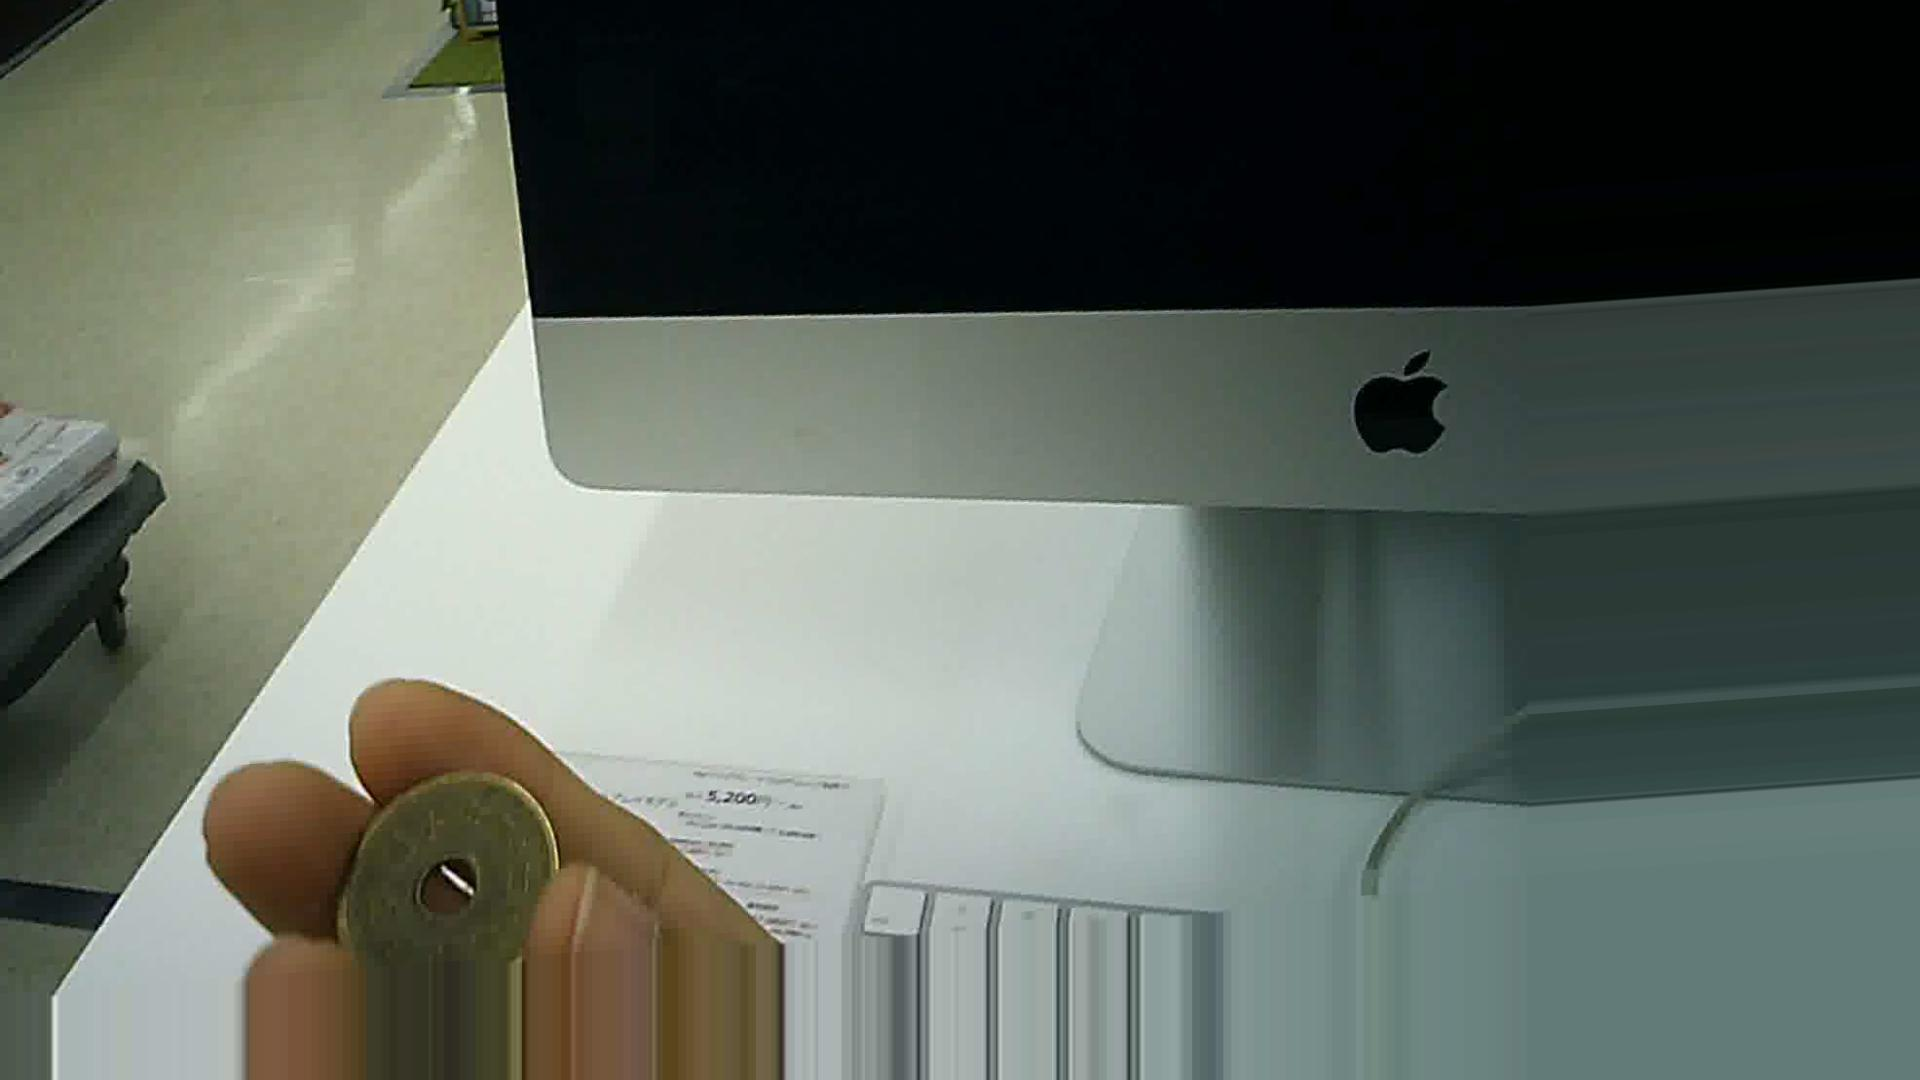5 Yen: (326, 779, 554, 953)
